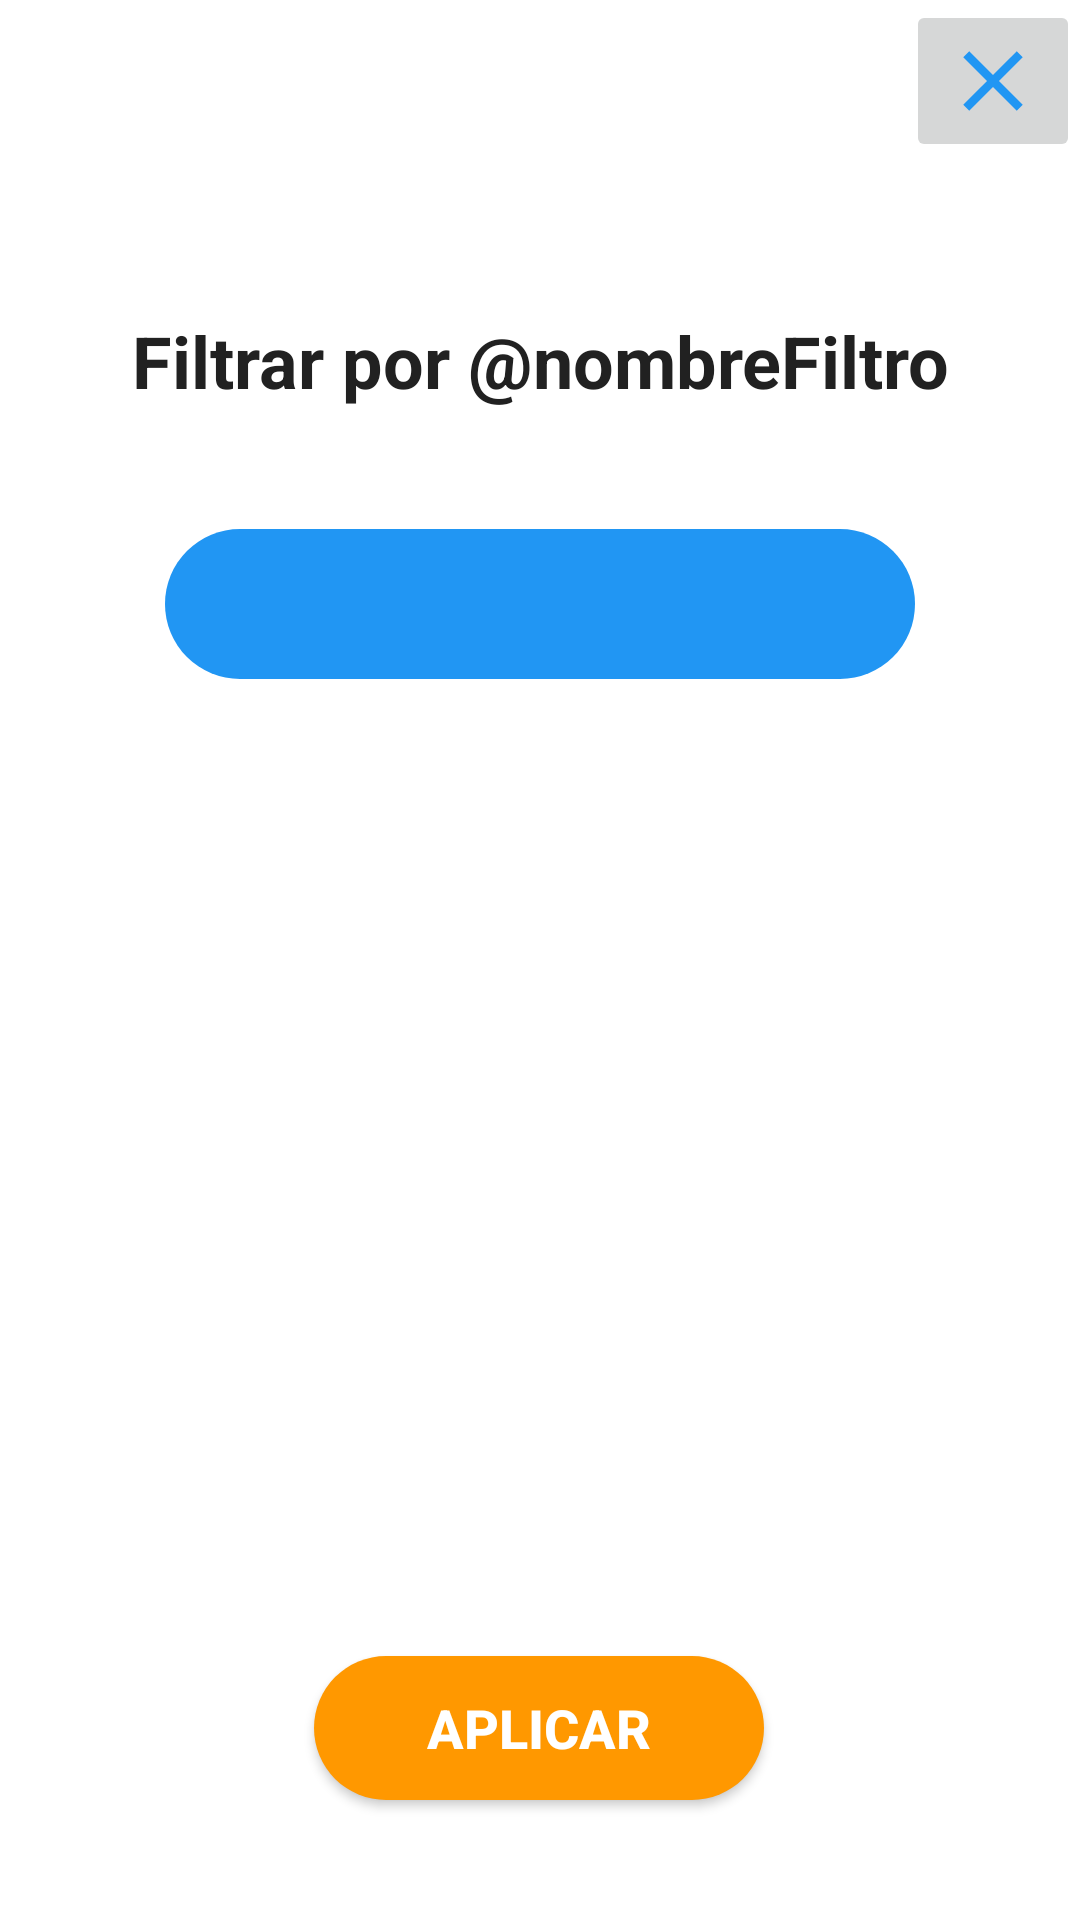

Screen size 1080px x 1920px. Icon name, then its box in pixels as (x1, y1, x2, y2):
close: (918, 18, 1068, 144)
